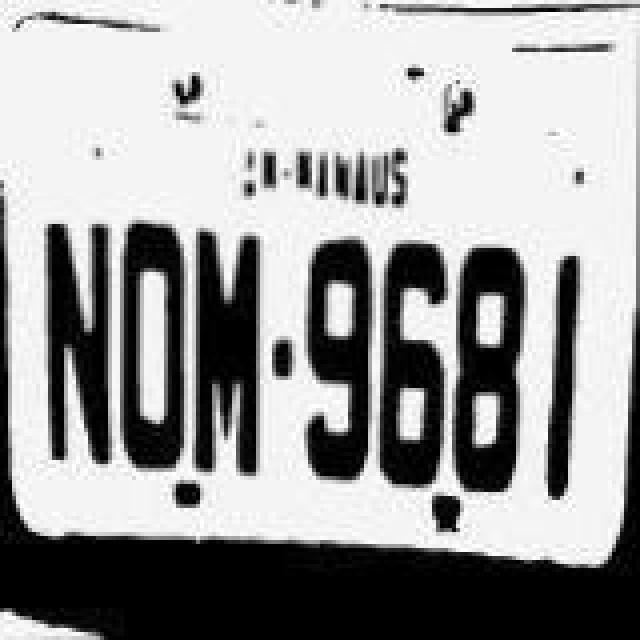1: (530, 232, 602, 520)
6: (374, 232, 454, 508)
8: (452, 220, 536, 512)
9: (294, 224, 374, 508)
M: (186, 222, 266, 518)
N: (38, 210, 118, 486)
O: (110, 214, 190, 490)
